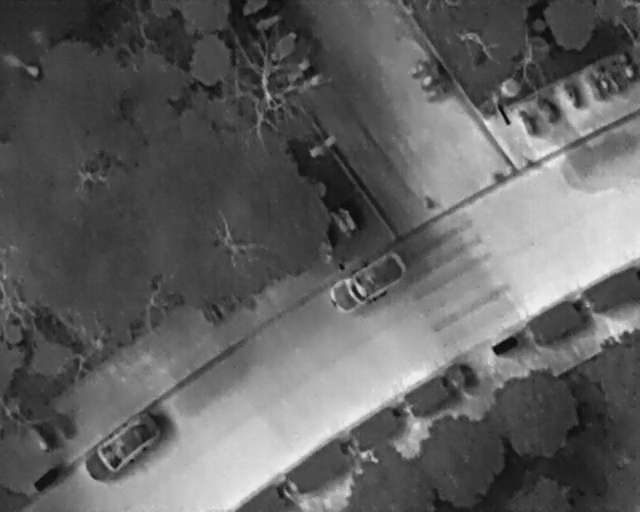Bicycle: (512, 106, 542, 140), (533, 93, 563, 127), (559, 79, 586, 110), (422, 80, 455, 105), (414, 65, 447, 90), (407, 55, 435, 77)
Car: (76, 407, 168, 489), (322, 245, 412, 320)
DontCare: (585, 56, 637, 100)
